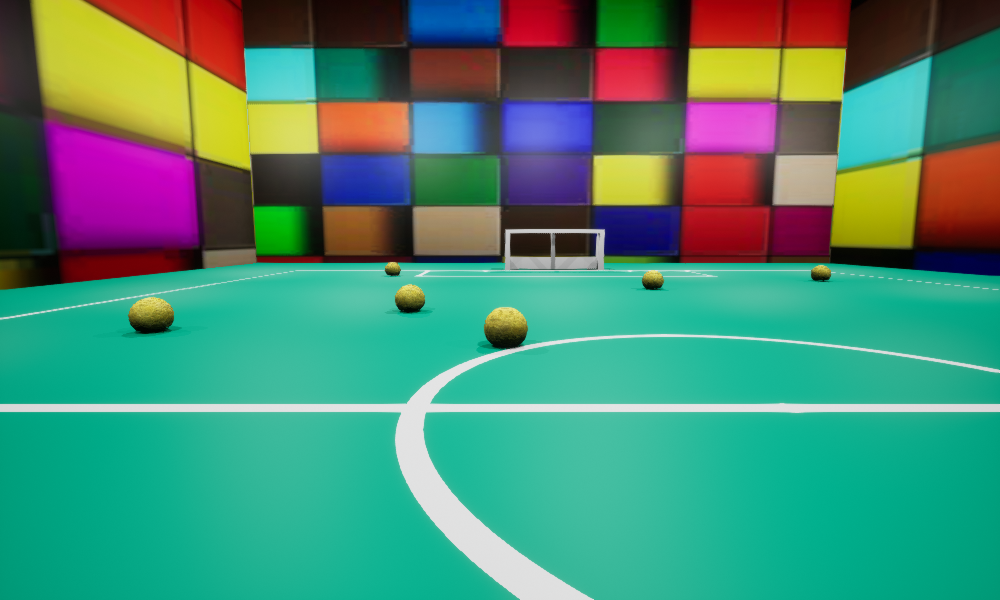b: (484, 307, 527, 347), (128, 297, 173, 332), (395, 284, 424, 311), (642, 270, 663, 288), (811, 265, 830, 280), (385, 262, 400, 275)
g: (505, 229, 604, 269)
